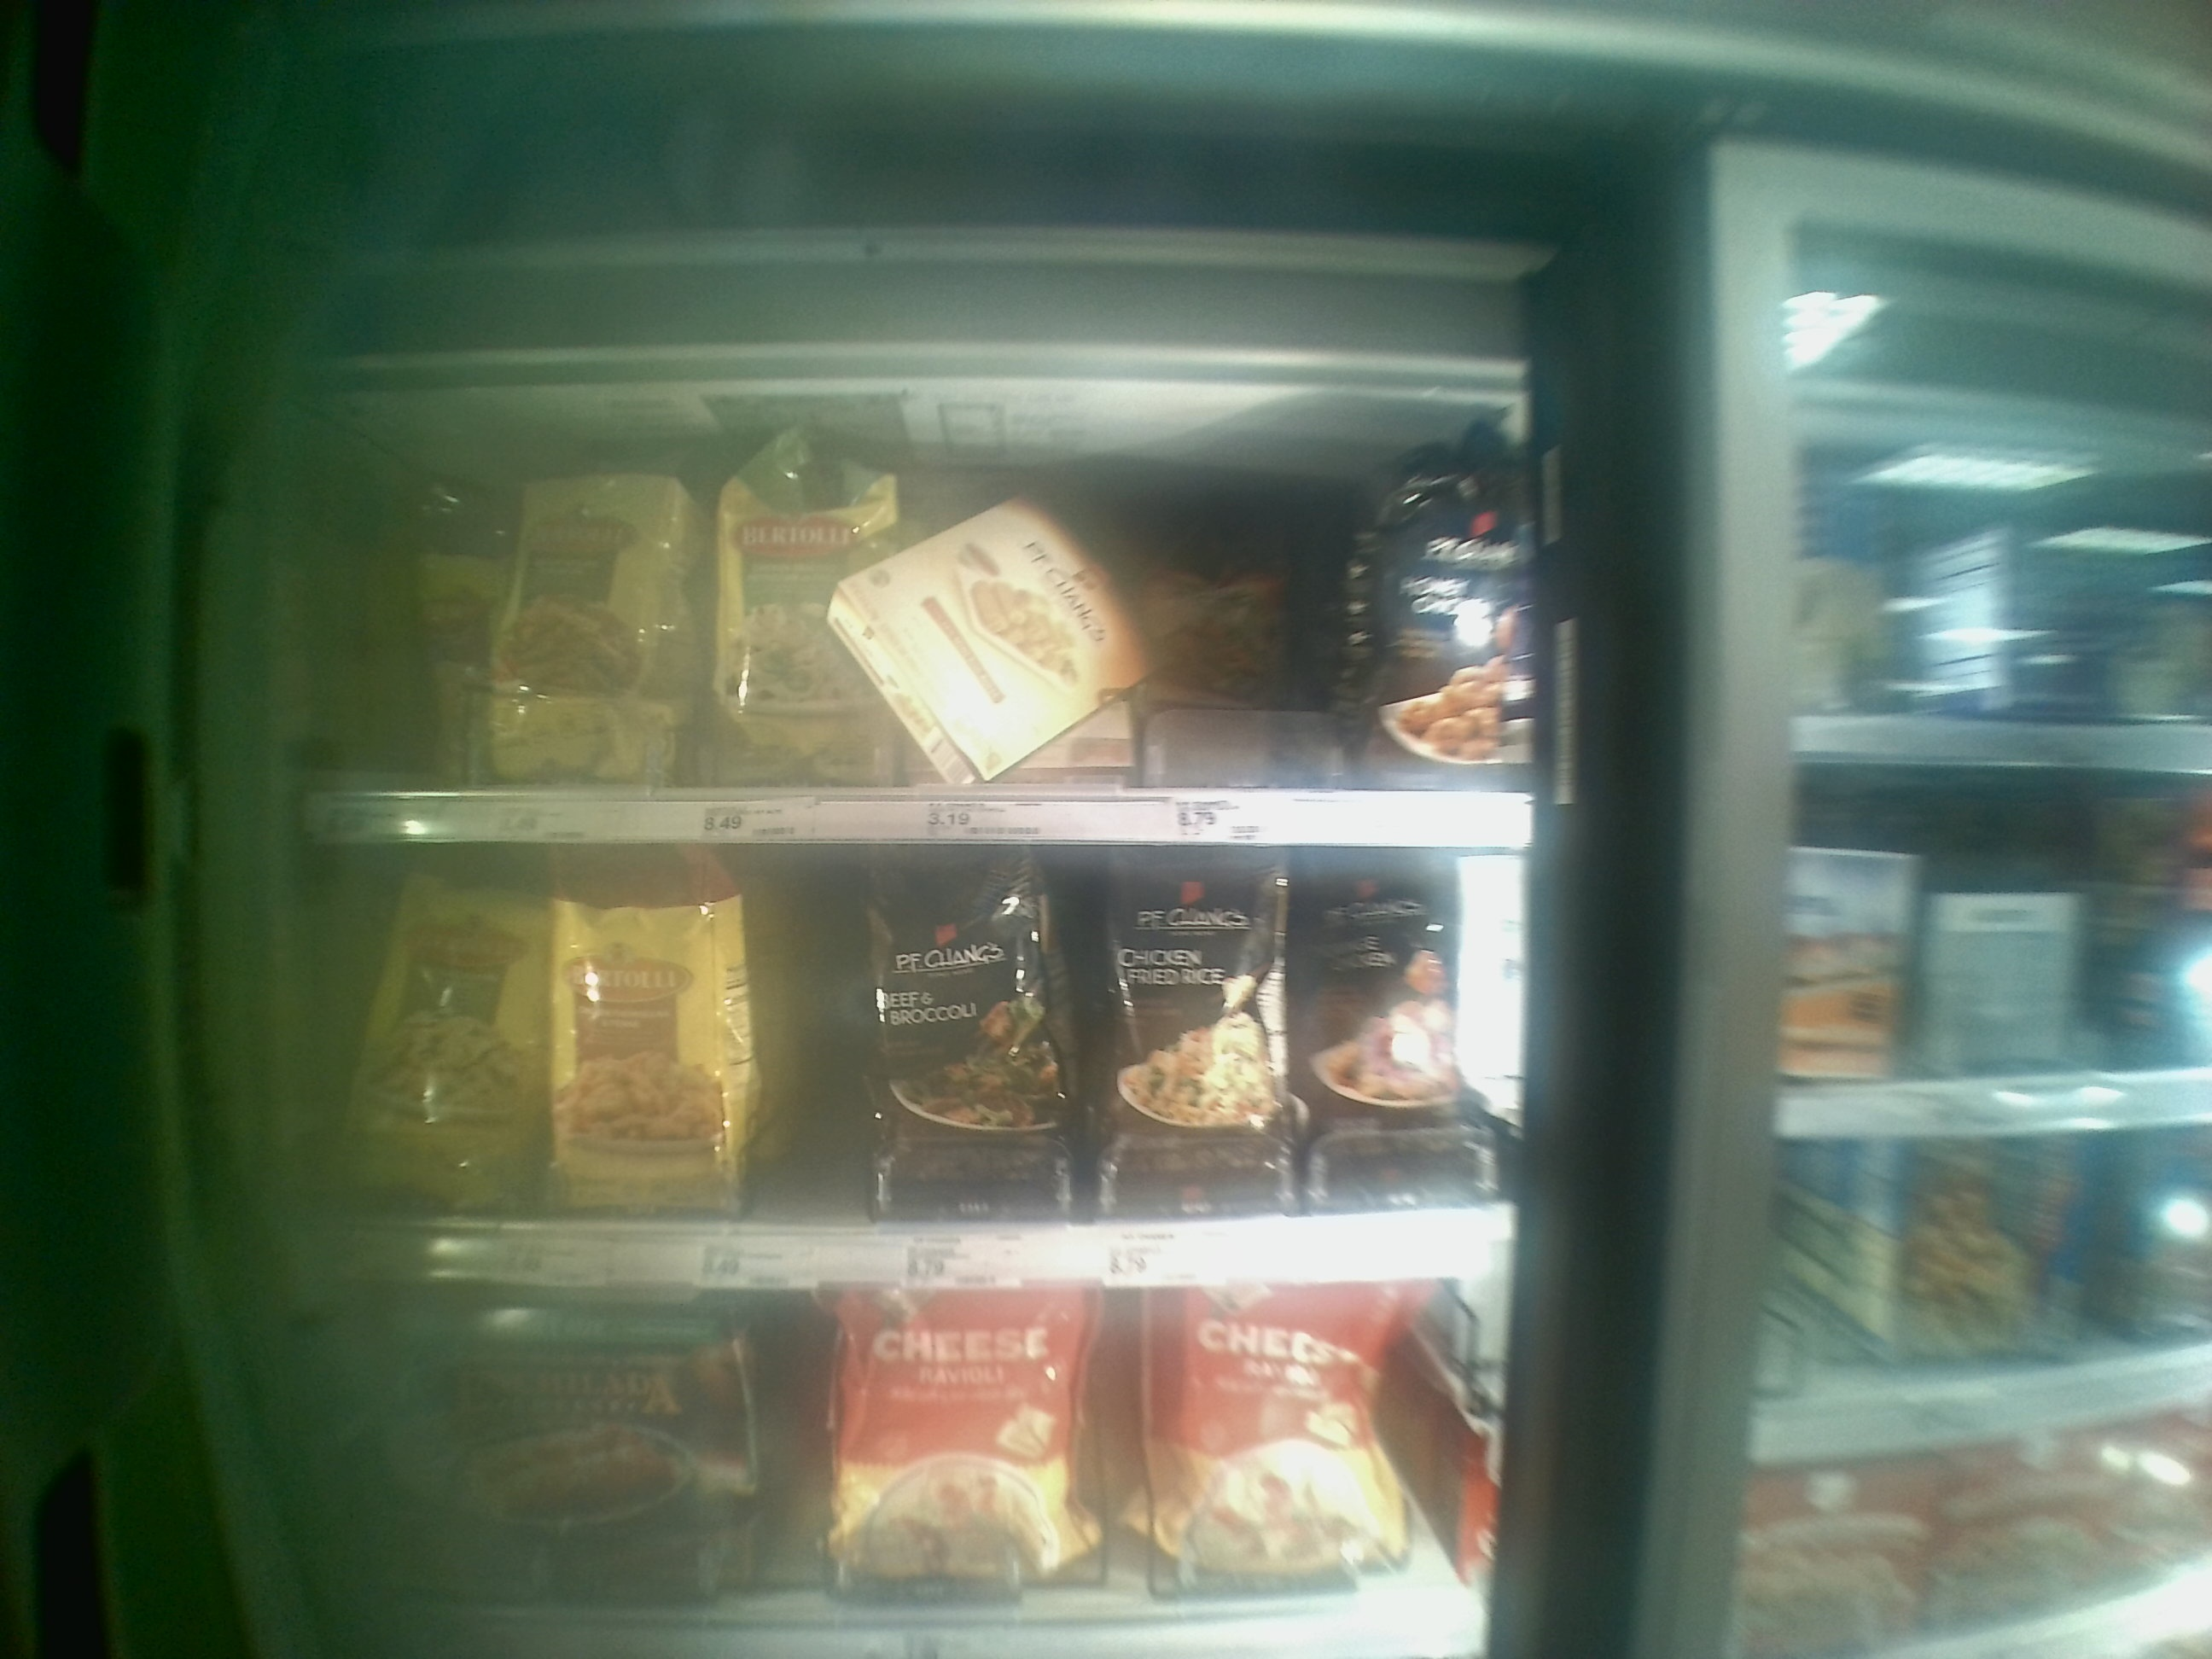frozen-food-shelf: (298, 847, 1489, 1281), (284, 430, 1514, 847)
